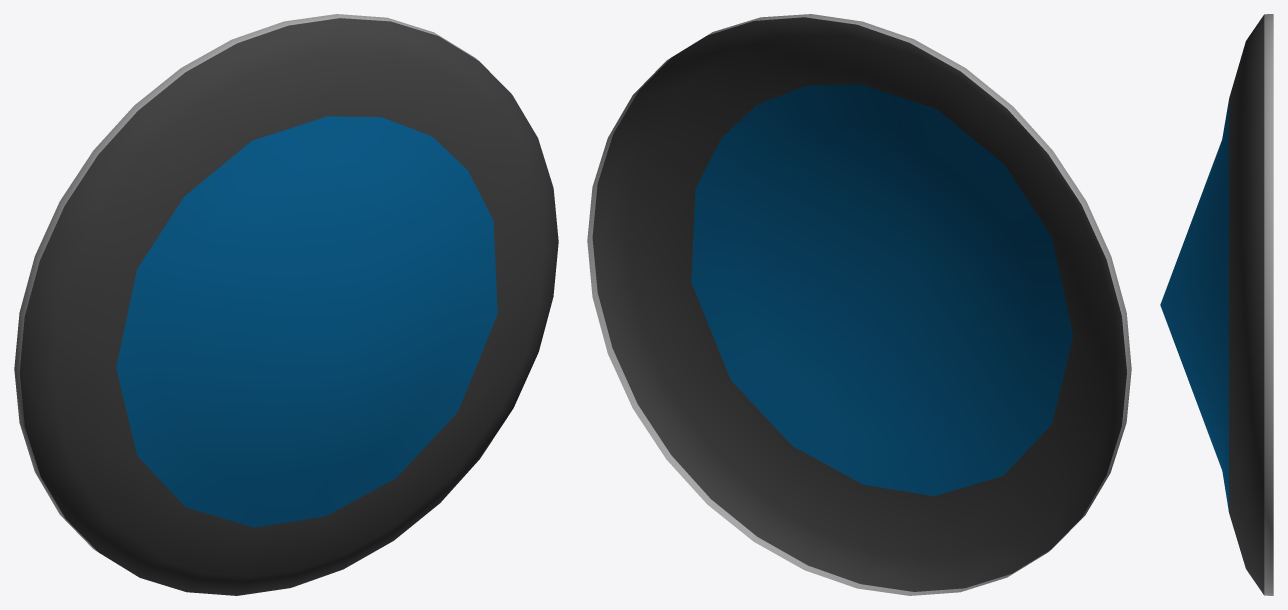
File: CymbalNote.glb
3 renders of one model, left to right at view 1: azimuth 30°, elevation 25°; view 2: azimuth 150°, elevation 25°; view 3: azimuth 270°, elevation 25°, orthographic. The views are drawn at different scales.
Parts seen in each view (by area): view 1: CymbalNote; view 2: CymbalNote; view 3: CymbalNote.
Boxes of the visible parts, x1,y1,x2,y2 form: CymbalNote: (14,14,558,595); CymbalNote: (587,14,1131,595); CymbalNote: (1160,14,1273,595).
Bounding box in the file's own units: 0.6007 × 0.5995 × 0.1168.
